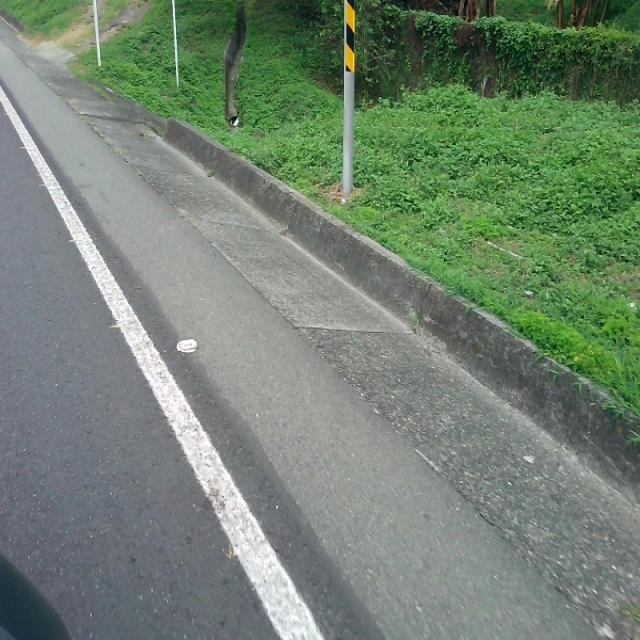DITCH: (1, 12, 639, 638), (1, 23, 638, 638)
